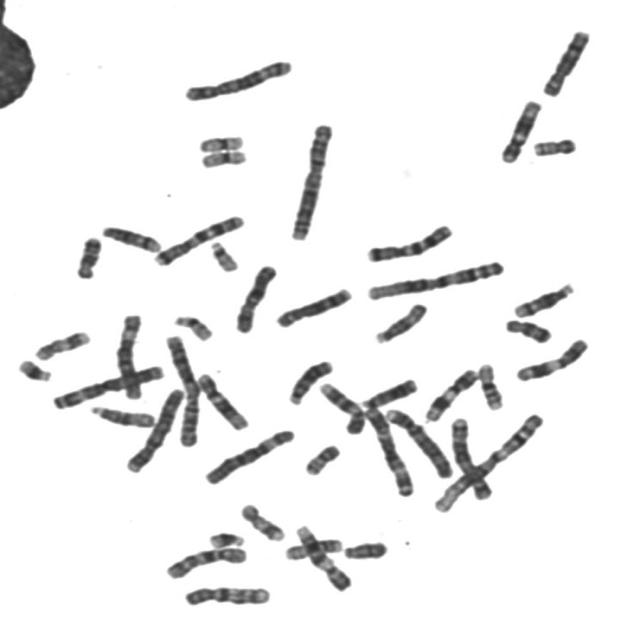A1: (429, 407, 547, 515), (362, 253, 508, 302)
A2: (284, 117, 338, 242), (160, 329, 203, 448)
A3: (48, 359, 168, 410), (359, 399, 419, 498)
B4: (379, 402, 456, 481), (122, 382, 188, 474)
B5: (180, 52, 297, 103), (446, 410, 496, 500)
C10: (161, 541, 252, 581), (180, 580, 276, 608)
C11: (511, 332, 593, 383), (420, 363, 483, 424)
C12: (193, 367, 253, 432), (496, 94, 546, 164)
C6: (201, 423, 298, 486), (112, 308, 147, 401)
C7: (150, 209, 248, 267), (362, 218, 458, 264)
C8: (538, 23, 595, 98), (271, 281, 356, 329)
C9: (292, 519, 356, 593), (316, 376, 368, 436)
D13: (284, 354, 338, 406), (358, 373, 422, 409)
D14: (509, 276, 578, 320), (97, 220, 165, 254)
D15: (371, 297, 432, 345), (86, 400, 159, 429)
E16: (474, 357, 508, 411), (280, 534, 347, 561)
E17: (30, 325, 95, 362), (236, 498, 290, 542)
E18: (501, 312, 557, 344), (71, 230, 105, 280)
F19: (194, 128, 248, 154), (196, 144, 252, 169)
F20: (300, 438, 345, 476), (528, 131, 580, 158)
G21: (13, 354, 55, 383), (204, 526, 249, 550)
G22: (170, 310, 217, 342), (206, 235, 243, 273)
X: (230, 259, 281, 335)
Y: (340, 535, 392, 561)
